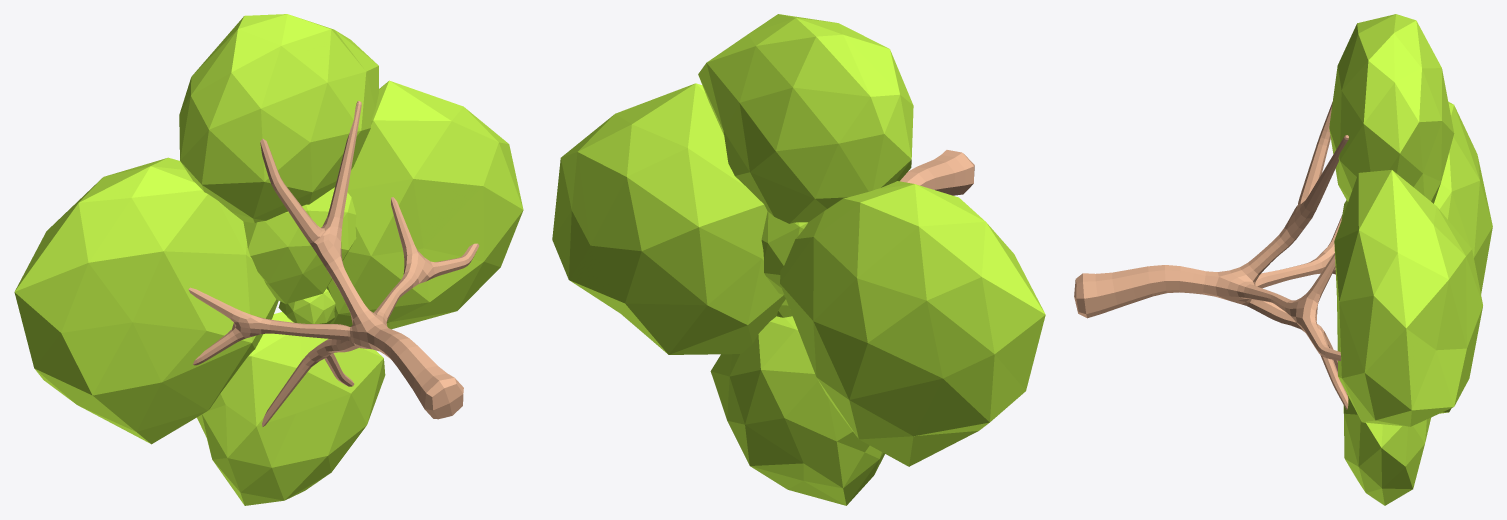
File: Puu_se_on_taa_sen_taa_danking_around__2.fbx
3 views of the same model, side by side, from view 1: azimuth 30°, elevation 25°; view 2: azimuth 150°, elevation 25°; view 3: azimuth 270°, elevation 25° (orthographic). The views are drawn at different scales.
Visible parts, largest first — view 1: Plane; view 2: Plane; view 3: Plane.
Part boxes in pixels (x1,y1,x2,y2): Plane: (14,14,523,505); Plane: (552,14,1045,505); Plane: (1074,14,1492,505).
Size of the model in its own units: 1092 by 1008 by 818.
